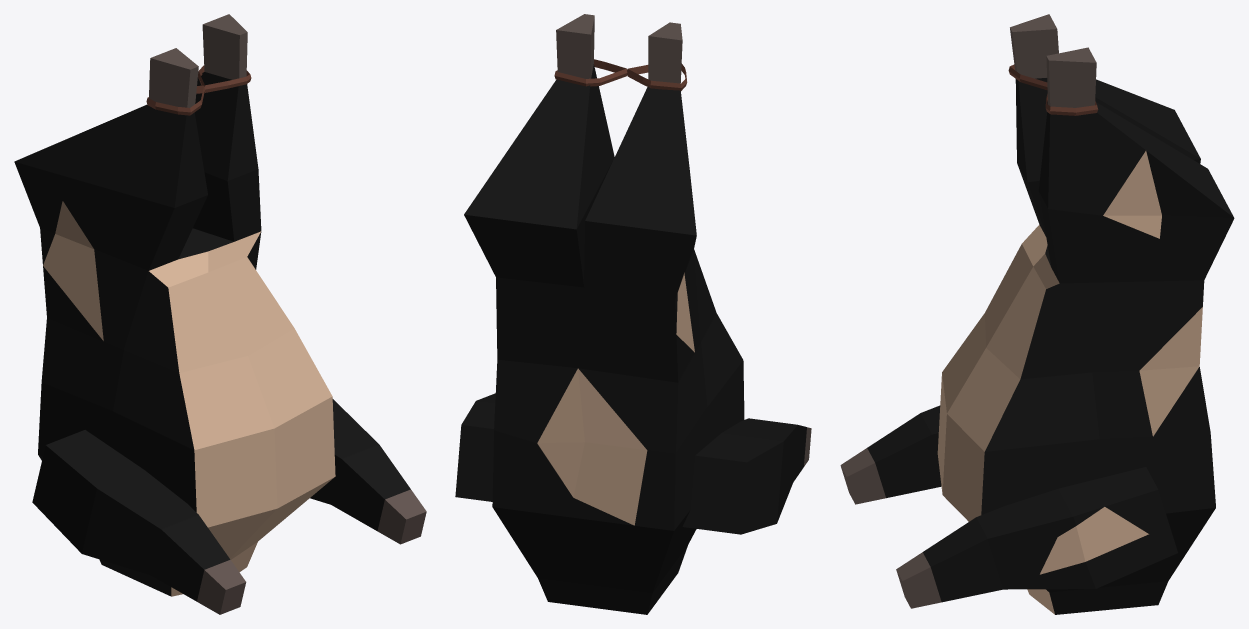
Rendered from cow_carcass.fbx.
3 views of the same model, side by side, from view 1: azimuth 30°, elevation 25°; view 2: azimuth 150°, elevation 25°; view 3: azimuth 270°, elevation 25° (orthographic). The views are drawn at different scales.
Visible parts, largest first — view 1: cow_carcass.001; view 2: cow_carcass.001; view 3: cow_carcass.001.
Boxes of the visible parts, x1,y1,x2,y2 form: cow_carcass.001: (14, 14, 426, 614); cow_carcass.001: (455, 14, 811, 614); cow_carcass.001: (840, 14, 1234, 614).
Size of the model in its own units: 50.98 by 89.45 by 57.74.
